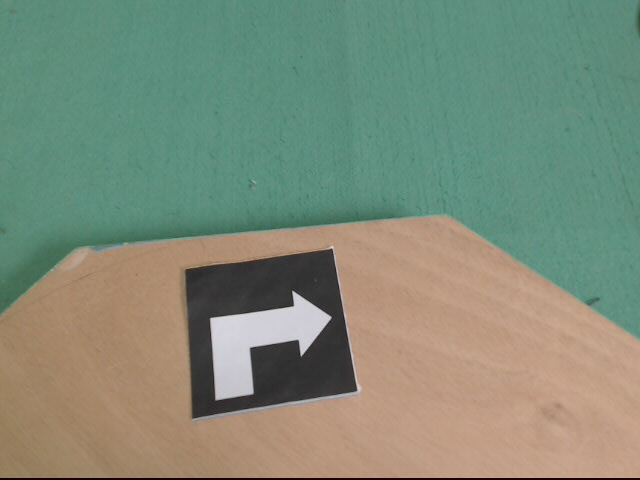right: (185, 248, 361, 420)
